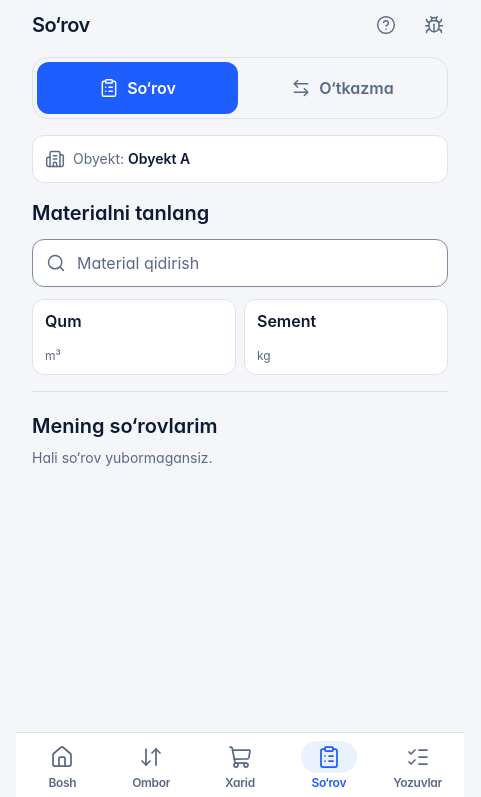
it: /tg/request — So‘rov › material smetada yo‘q — ogohlantirish
The image size is (481, 797).
Click the button "Qum m³". click: (134,337)
box: top-left (32, 299), bottom-right (236, 375)
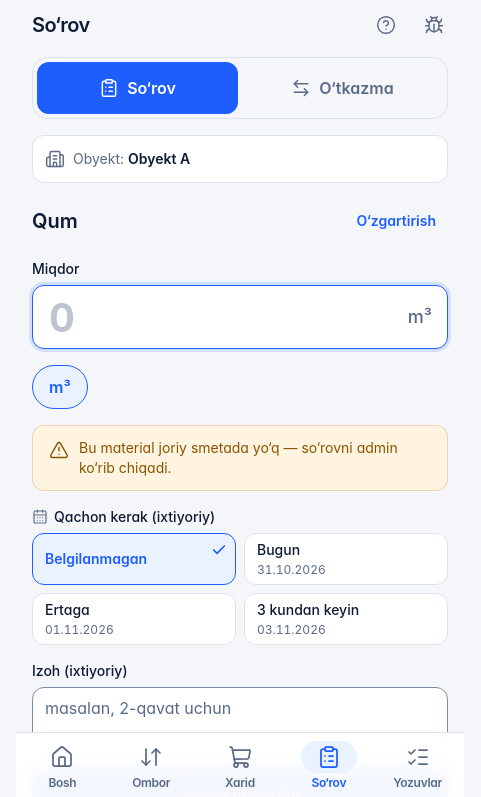
Now the text "Bu material joriy smetada yo‘q — so‘rovni admin ko‘rib chiqadi." is shown, box top-left (79, 438), bottom-right (431, 478)
